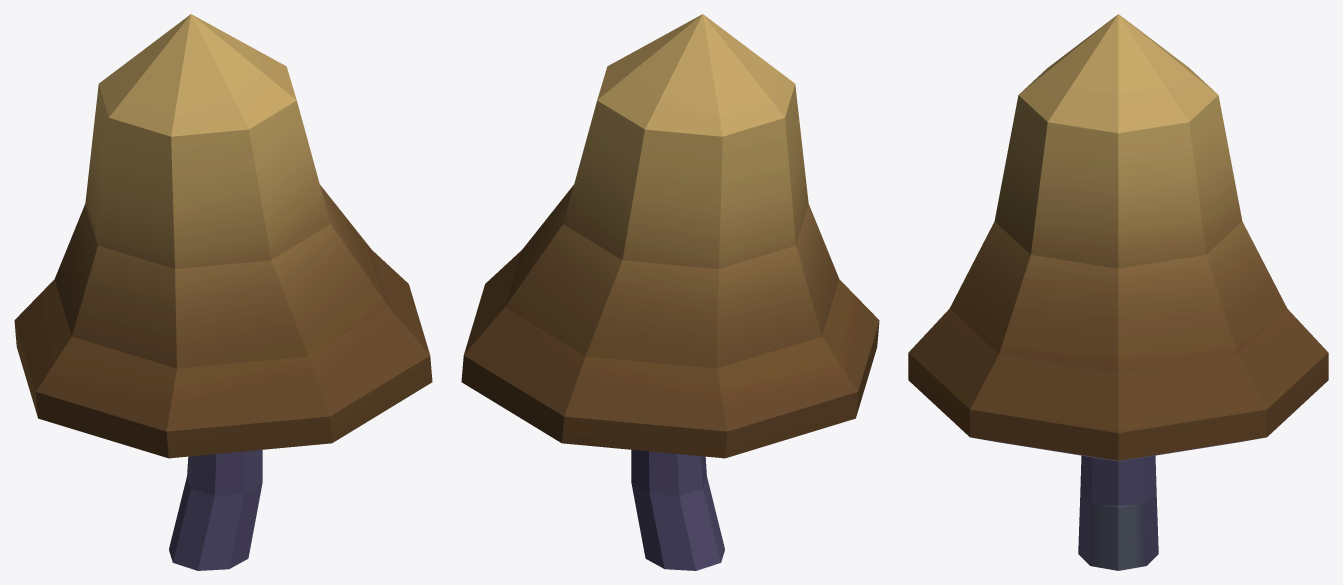
File: pack01_foliage_37.fbx
3 views of the same model, side by side, from view 1: azimuth 30°, elevation 25°; view 2: azimuth 150°, elevation 25°; view 3: azimuth 270°, elevation 25° (orthographic). The views are drawn at different scales.
Visible parts, largest first — view 1: Mushroom_high_yellow; view 2: Mushroom_high_yellow; view 3: Mushroom_high_yellow.
Boxes of the visible parts, bbox=[...] form: Mushroom_high_yellow: bbox=[14, 14, 432, 570]; Mushroom_high_yellow: bbox=[461, 14, 879, 570]; Mushroom_high_yellow: bbox=[908, 14, 1328, 570].
Size of the model in its own units: 19.77 by 27.41 by 19.62.
Materials: 1 (1 with a texture image).
